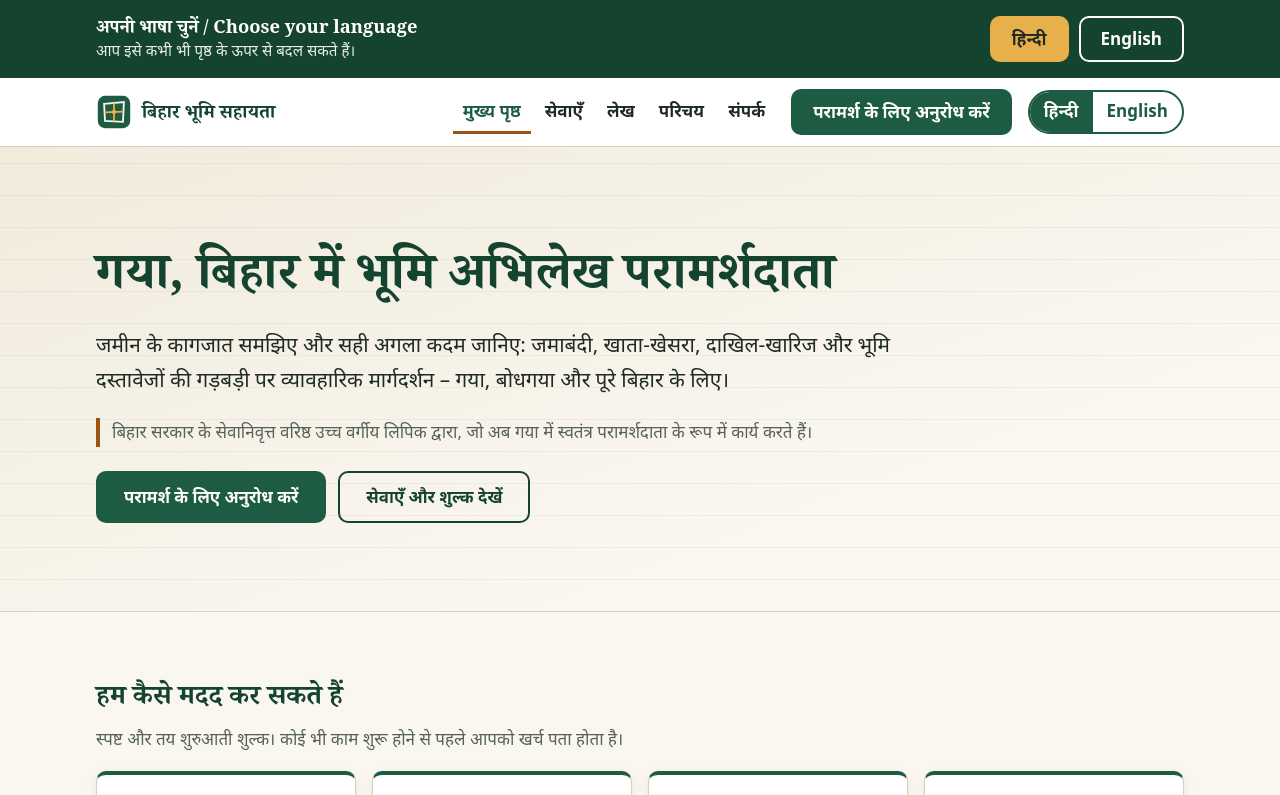
Test case: language behaviour › choosing English in the first-visit prompt switches and remembers it
Click the button "English" at [1131, 39], box [1078,16,1184,62]
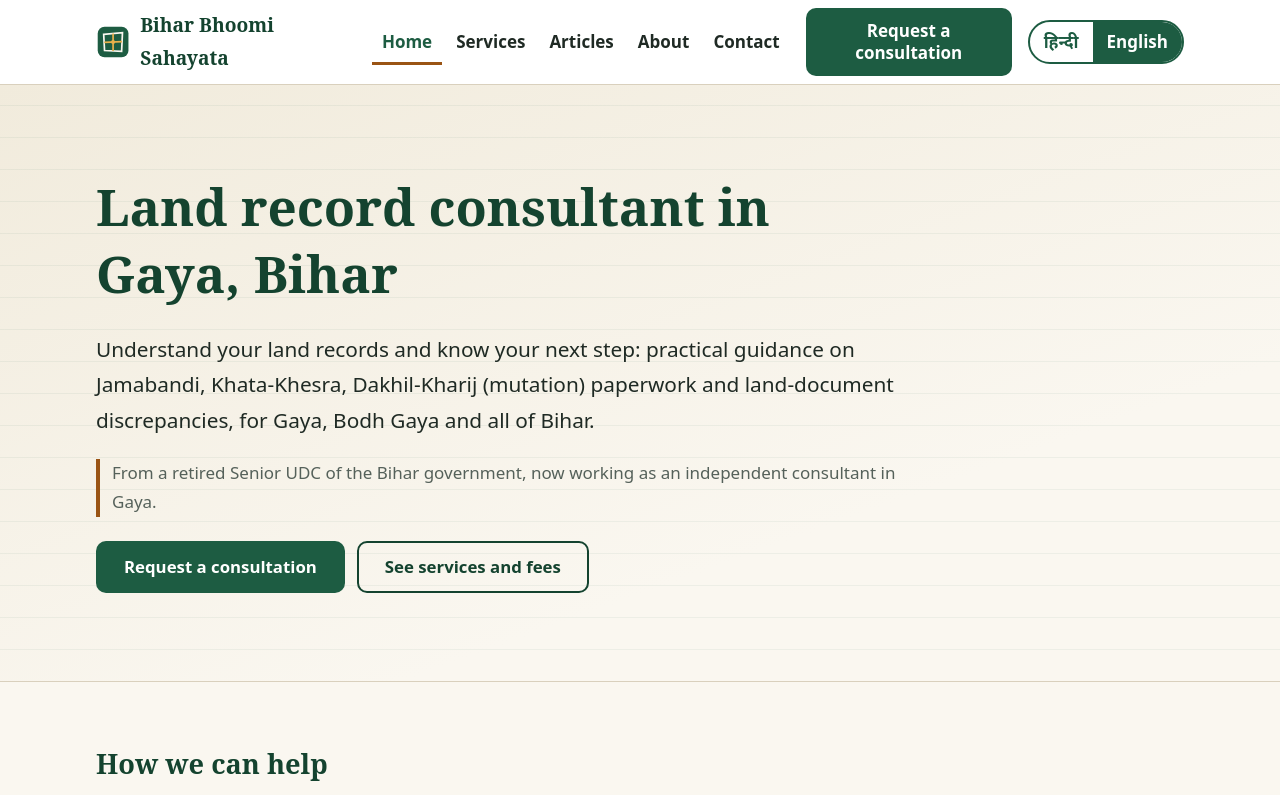
Expected: the heading "Land record consultant in Gaya, Bihar" is shown, [96,171,770,308]
Expected: the text "Choose your language" is gone
